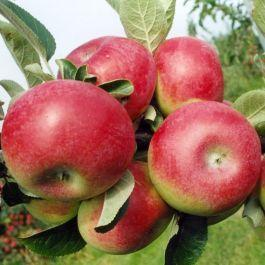apple: (1, 76, 136, 206), (146, 102, 263, 218), (78, 160, 173, 253), (64, 34, 156, 118), (153, 34, 224, 113)
